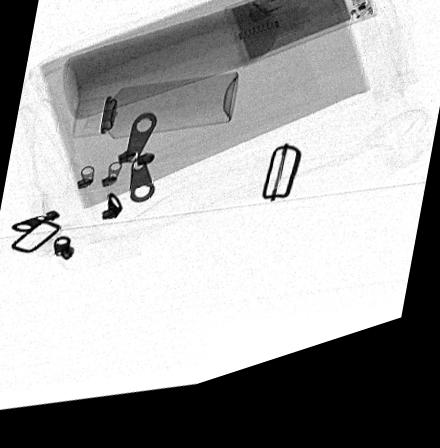Lighter: (246, 0, 337, 39)
Powerbank: (221, 0, 374, 82)
Sprayer: (73, 85, 238, 145)
